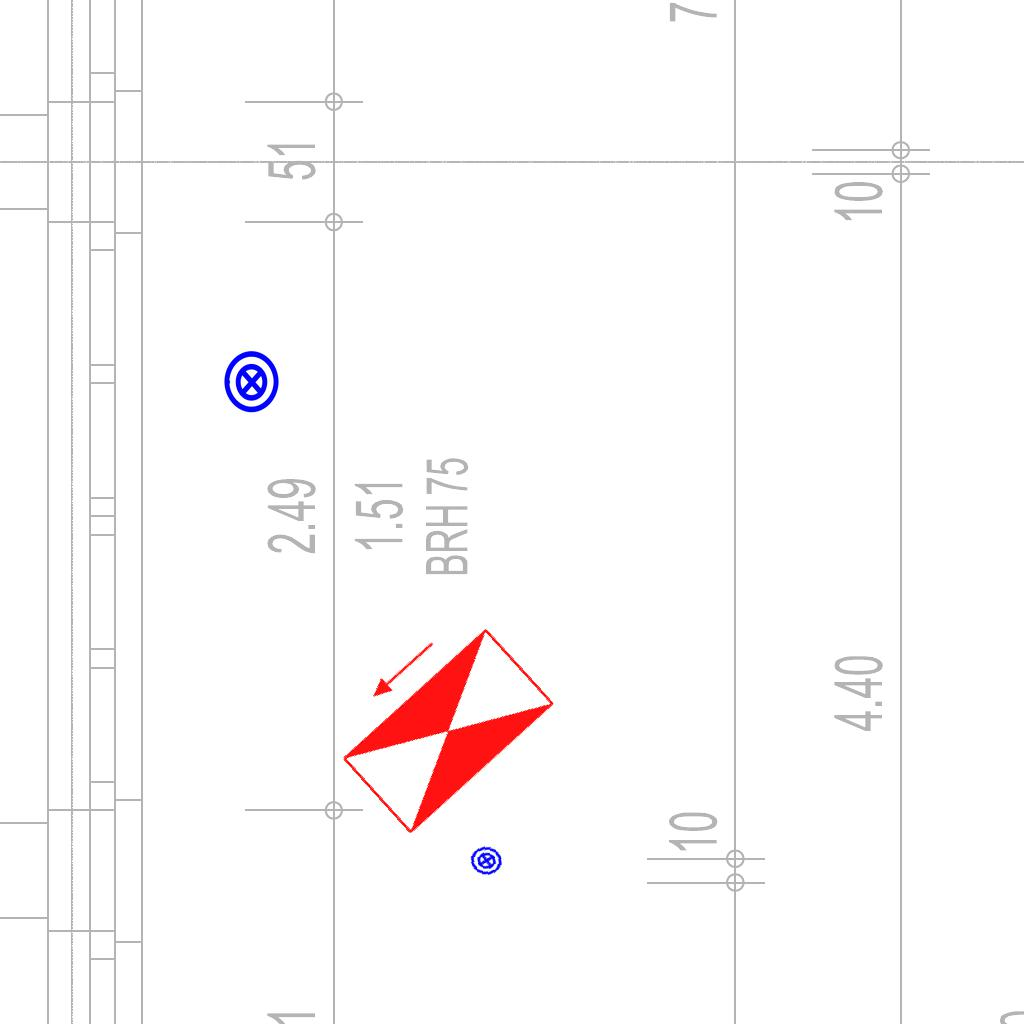Fluchtwegpiktogramm: (311, 594, 564, 844)
Taster_beleuchtet: (219, 349, 285, 415), (467, 841, 506, 880)
